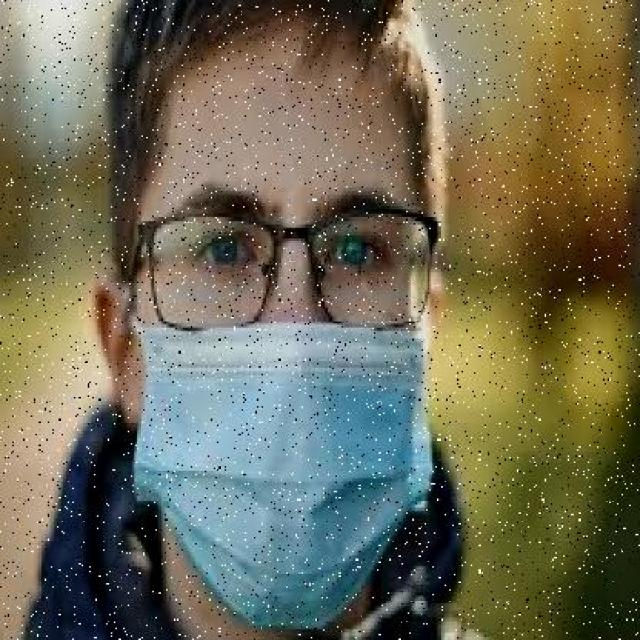glasses: (135, 180, 442, 338)
